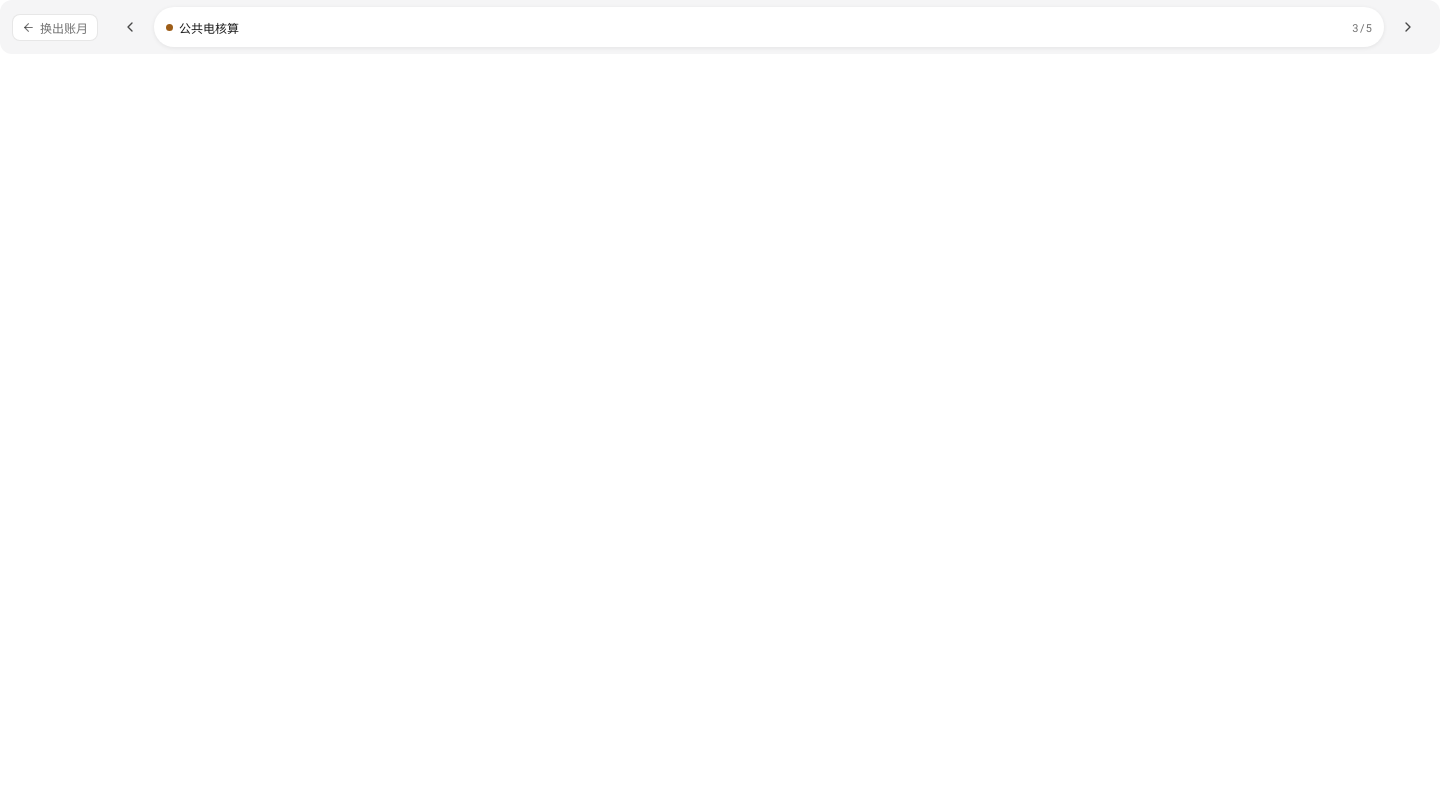
it: §5.9 S 档面板 › 面板里点一条 → 导航并关闭
What coordinates should you click on to do the following:
click the button with class "fss-cur"
I would click on:
 (209, 28)
Its box is [154, 7, 1384, 47].
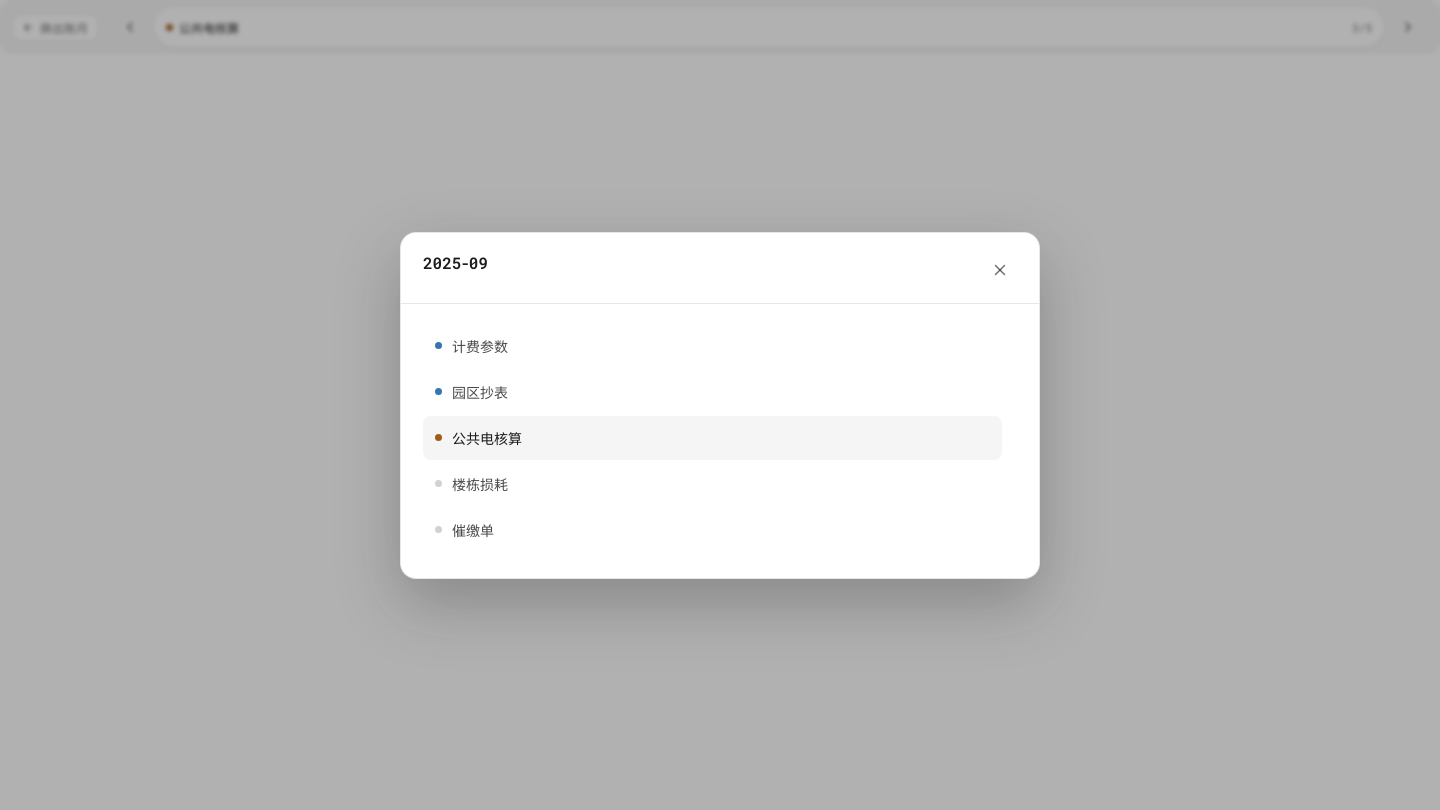
Expected: the button with class "fss-sheet-item" showing "催缴单" is shown
What coordinates should you click on to do the following:
click the button with class "fss-sheet-item" showing "催缴单"
I would click on:
 (473, 530)
Its box is [423, 508, 1002, 552].
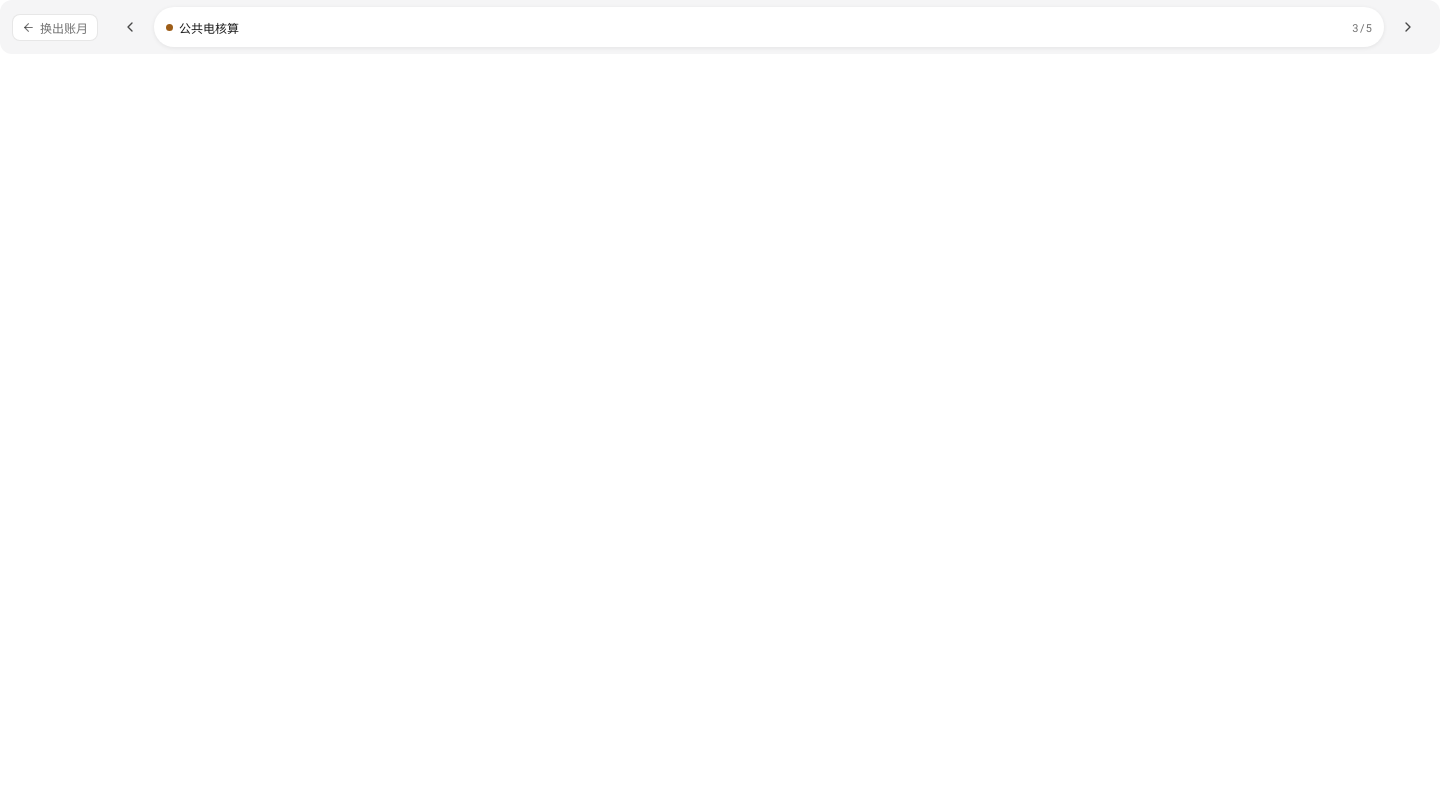
Expected: the element with class "fss-nav" is shown, [110, 7, 1428, 47]
Expected: no buttons with class "fss-sheet-item" are shown
